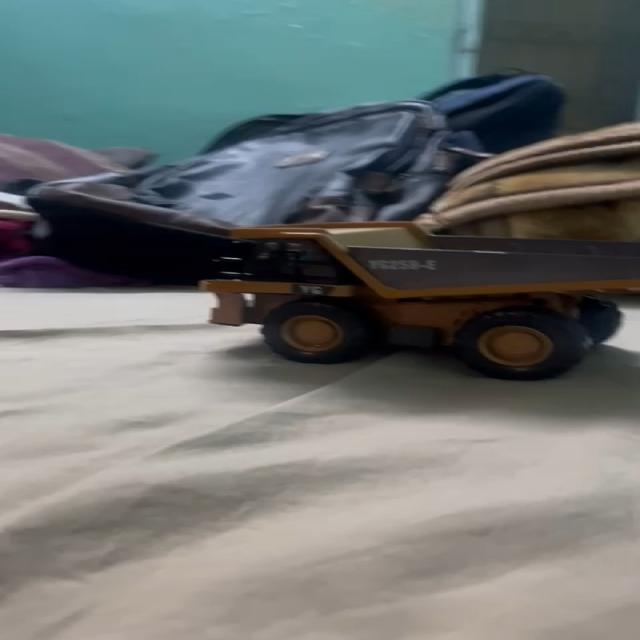dump_truck: (197, 214, 640, 374)
